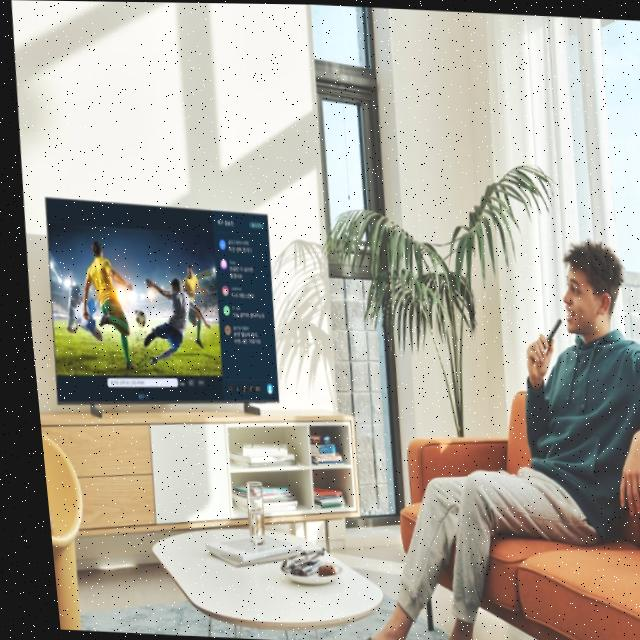tv-person: (10, 138, 640, 595)
